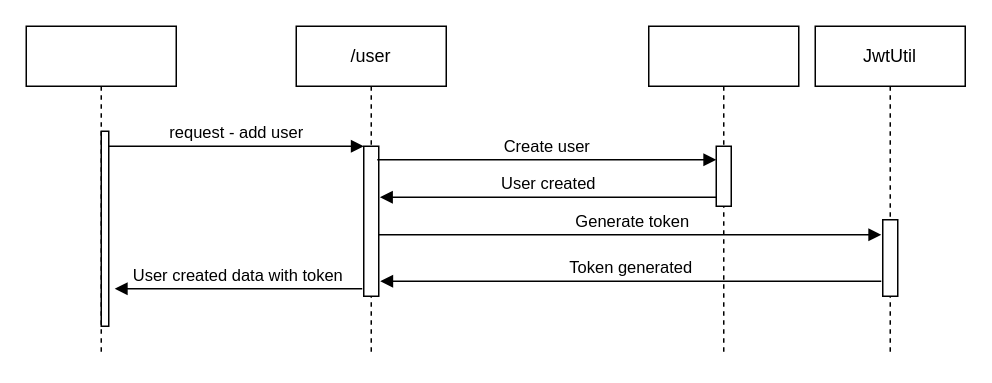
The diagram is 992 pixels wide and 383 high, and some of its shapes have lost their labels. The shapes that lost their labels are listed below. From the top down, each one's centre as x and y in pixels, then its label:
At [100,190]: "Client".
At [723,190]: "UserSerice".
